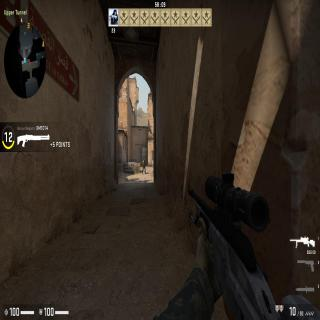T-Body: (142, 158, 146, 175)
T-Head: (144, 158, 145, 162)
